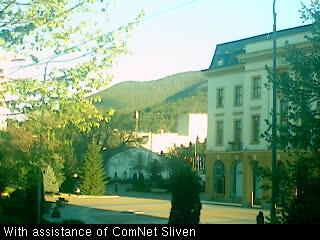person: (256, 210, 264, 225), (114, 183, 118, 192)
